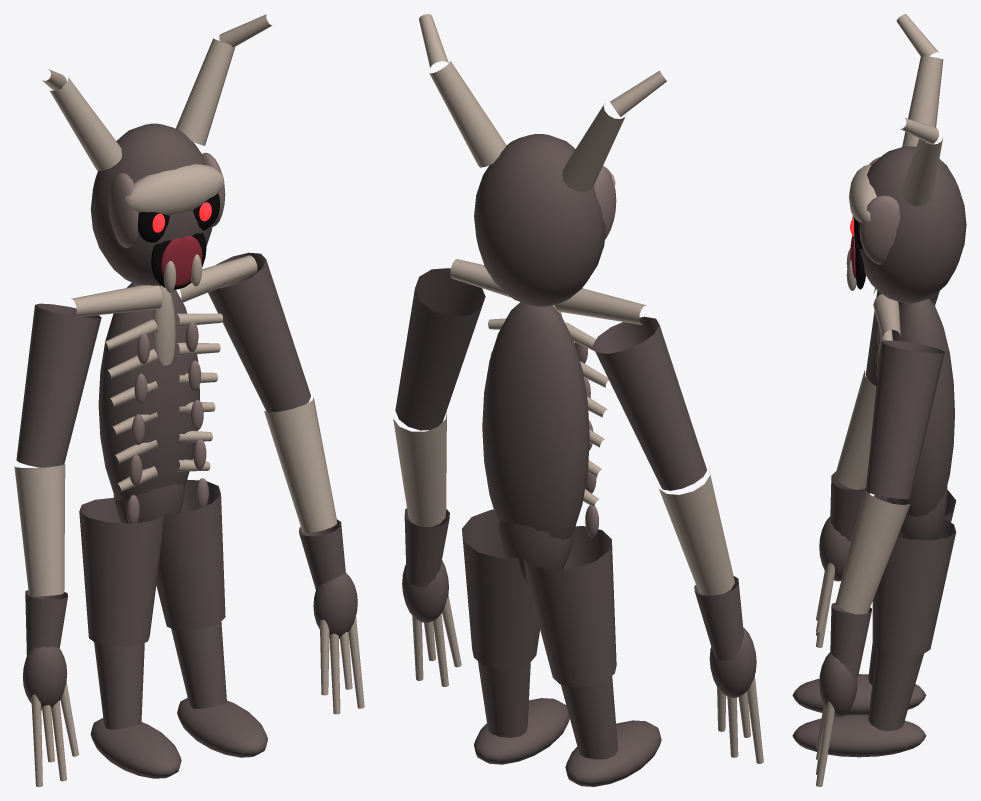
The model's file is watcher.glb.
The picture shows the model from 3 angles, left to right: view 1: azimuth 30°, elevation 25°; view 2: azimuth 150°, elevation 25°; view 3: azimuth 270°, elevation 25°; orthographic projection. The views are drawn at different scales.
Visible parts, largest first — view 1: Femur (×2), UpperArm (×2), ElbowExposure (×2), StarvedTorso, Skull, Shin (×2), ClovenFoot (×2), AntlerStem (×2), DistortedPalm (×2), Forearm (×2), CollarBone (×2), NeedleFinger (×5) (+9 smaller); view 2: StarvedTorso, UpperArm (×2), Femur (×2), Skull, ElbowExposure (×2), ClovenFoot (×2), Shin (×2), AntlerStem (×2), Forearm (×2), DistortedPalm (×2), CollarBone (×2), SunkenAbdomen (+3 smaller); view 3: Skull, UpperArm (×2), ElbowExposure (×2), Femur, StarvedTorso, ClovenFoot (×2), AntlerStem (×2), Forearm (×2), Shin, DistortedPalm (×2), TempleScarring, NeedleFinger (×2) (+5 smaller).
Part boxes in pixels (x1,y1,x2,y2): Femur (×2): (79, 479, 225, 646); UpperArm (×2): (16, 252, 310, 467); ElbowExposure (×2): (14, 397, 337, 596); StarvedTorso: (98, 282, 199, 501); Skull: (90, 123, 212, 285); Shin (×2): (94, 622, 226, 729); ClovenFoot (×2): (90, 698, 267, 778); AntlerStem (×2): (49, 38, 235, 170); DistortedPalm (×2): (23, 572, 357, 710); Forearm (×2): (25, 519, 345, 655); CollarBone (×2): (71, 255, 257, 316); NeedleFinger (×5): (31, 616, 364, 786); StarvedTorso: (482, 302, 589, 540); UpperArm (×2): (395, 268, 706, 490); Femur (×2): (462, 509, 616, 686); Skull: (474, 134, 605, 306); ElbowExposure (×2): (393, 411, 734, 595); ClovenFoot (×2): (474, 698, 661, 786); Shin (×2): (478, 661, 617, 759); AntlerStem (×2): (429, 61, 624, 191); Forearm (×2): (404, 508, 743, 660); DistortedPalm (×2): (402, 560, 756, 697); CollarBone (×2): (450, 259, 646, 324); SunkenAbdomen: (498, 521, 573, 584); Skull: (852, 146, 966, 303); UpperArm (×2): (865, 290, 944, 499); ElbowExposure (×2): (835, 370, 910, 614); Femur: (872, 519, 956, 655); StarvedTorso: (892, 298, 954, 516); ClovenFoot (×2): (792, 674, 926, 757); AntlerStem (×2): (900, 56, 943, 206); Forearm (×2): (830, 471, 871, 678); Shin: (868, 647, 923, 731); DistortedPalm (×2): (819, 516, 857, 717); TempleScarring: (859, 195, 900, 264); NeedleFinger (×2): (816, 562, 834, 786).
Bounding box in the file's own units: 1.91 × 3.84 × 0.91.
